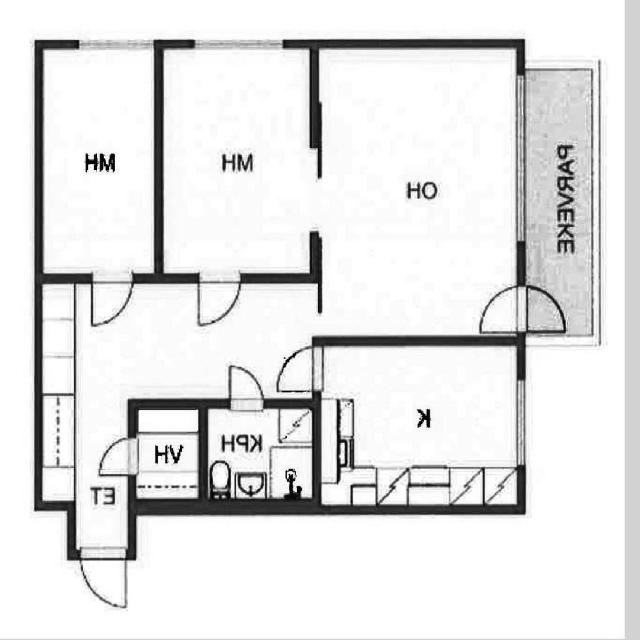door: (318, 43, 524, 340), (223, 347, 310, 414), (192, 269, 242, 333), (274, 342, 324, 397), (474, 283, 526, 333), (222, 360, 268, 416), (94, 435, 142, 480), (373, 463, 412, 506)
window: (502, 73, 536, 249), (186, 32, 285, 58), (508, 368, 532, 471), (75, 31, 154, 55)
zone: (38, 275, 322, 512), (157, 46, 318, 276), (318, 336, 526, 501), (38, 42, 156, 276), (201, 401, 316, 507), (134, 401, 202, 508), (77, 549, 132, 615), (88, 269, 132, 333), (518, 284, 569, 334)
